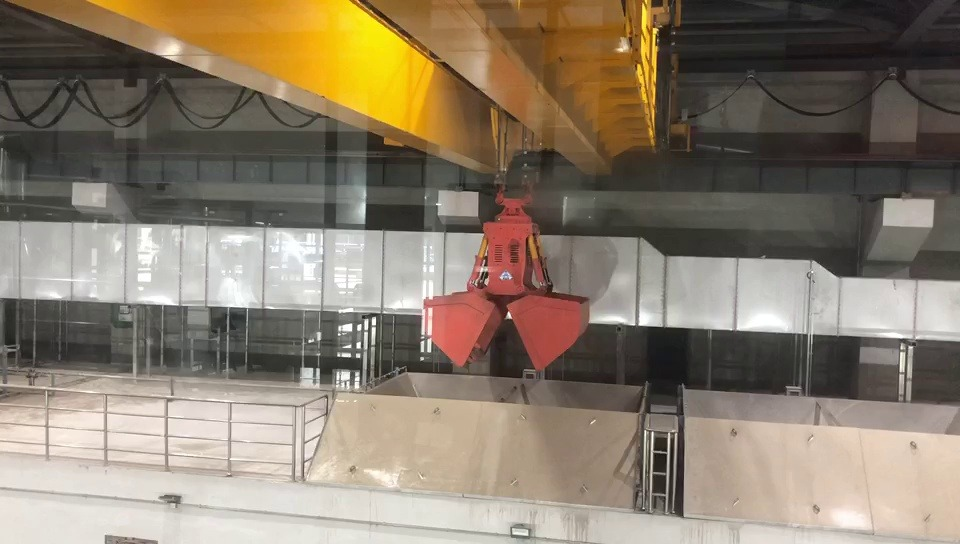grab: (417, 176, 593, 373)
